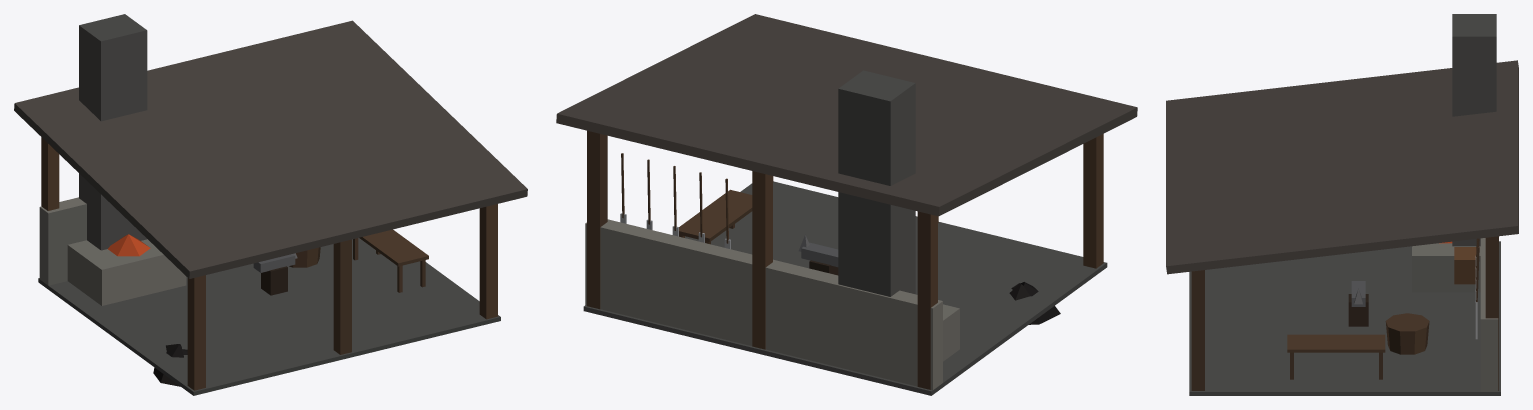
Rendered from walk_any_smithy.glb.
3 renders of one model, left to right at view 1: azimuth 30°, elevation 25°; view 2: azimuth 150°, elevation 25°; view 3: azimuth 270°, elevation 25°, orthographic. The views are drawn at different scales.
Parts seen in each view (by area): view 1: walk_any_smithy_roof, walk_any_smithy; view 2: walk_any_smithy, walk_any_smithy_roof; view 3: walk_any_smithy_roof, walk_any_smithy.
Boxes of the visible parts, bbox=[...] form: walk_any_smithy_roof: bbox=[14, 20, 527, 278]; walk_any_smithy: bbox=[38, 14, 500, 395]; walk_any_smithy: bbox=[583, 70, 1107, 395]; walk_any_smithy_roof: bbox=[556, 14, 1137, 216]; walk_any_smithy_roof: bbox=[1166, 60, 1518, 274]; walk_any_smithy: bbox=[1189, 14, 1500, 395].
Size of what is drawn, in the model's own units: 8.8 by 6.67 by 7.93.
Materials: 2 (2 with a texture image).
